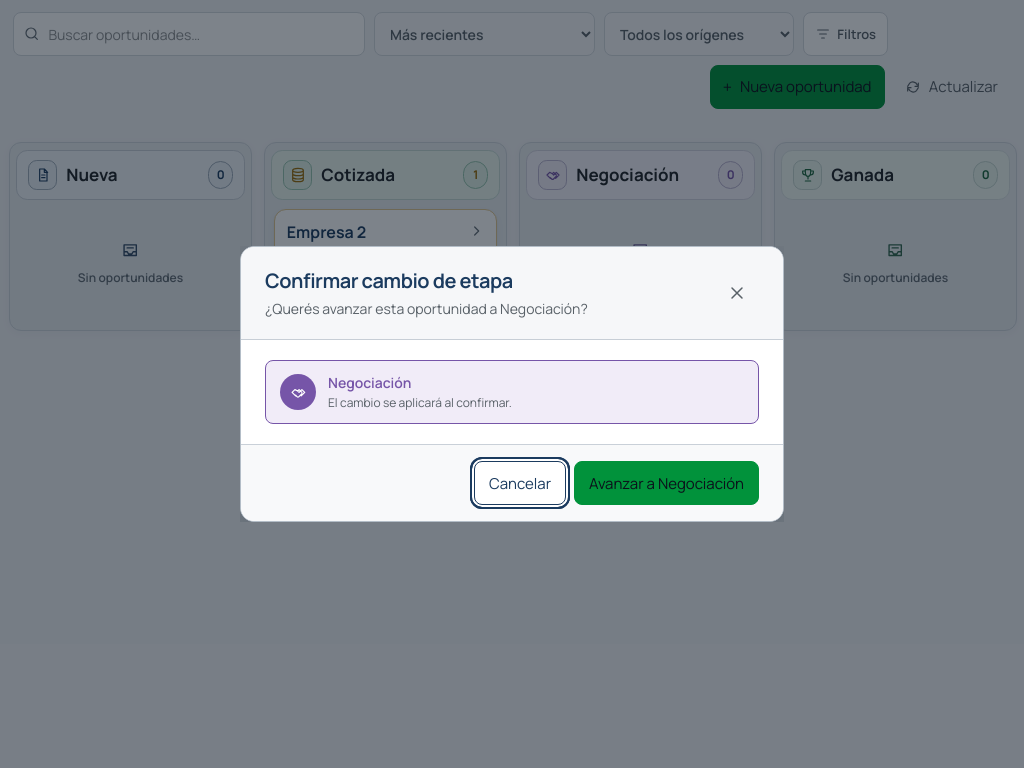
Scenario: PipelinePage › moves only valid transitions, rolls back rejected mutations, and ignores same-column drops
This screenshot has width=1024, height=768.
expect the heading "Nueva" is shown: met, box [66,163,118,187]
expect the text "Empresa 2" is shown: met, box [287,221,366,243]
Step 1. Click the button "Avanzar a Negociación" → click(666, 483), box [574,461,759,505]
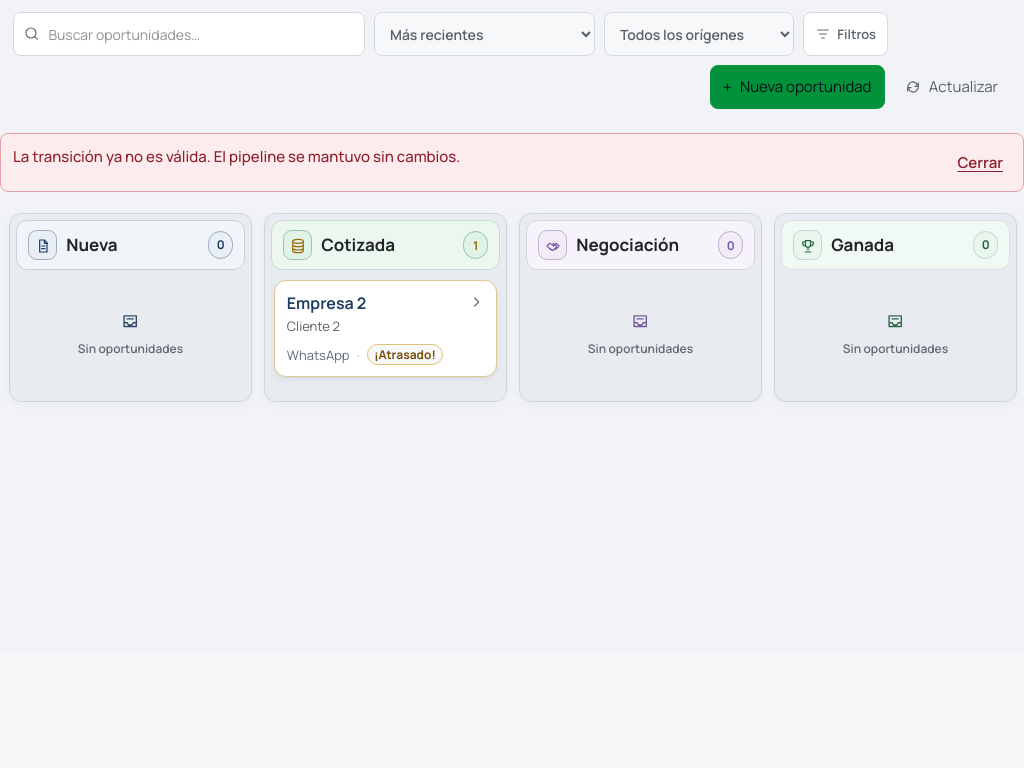
expect the text "Empresa 2" is shown: met, box [287,292,366,314]
expect the message shows "se mantuvo sin cambios": met, box [13,146,460,167]
